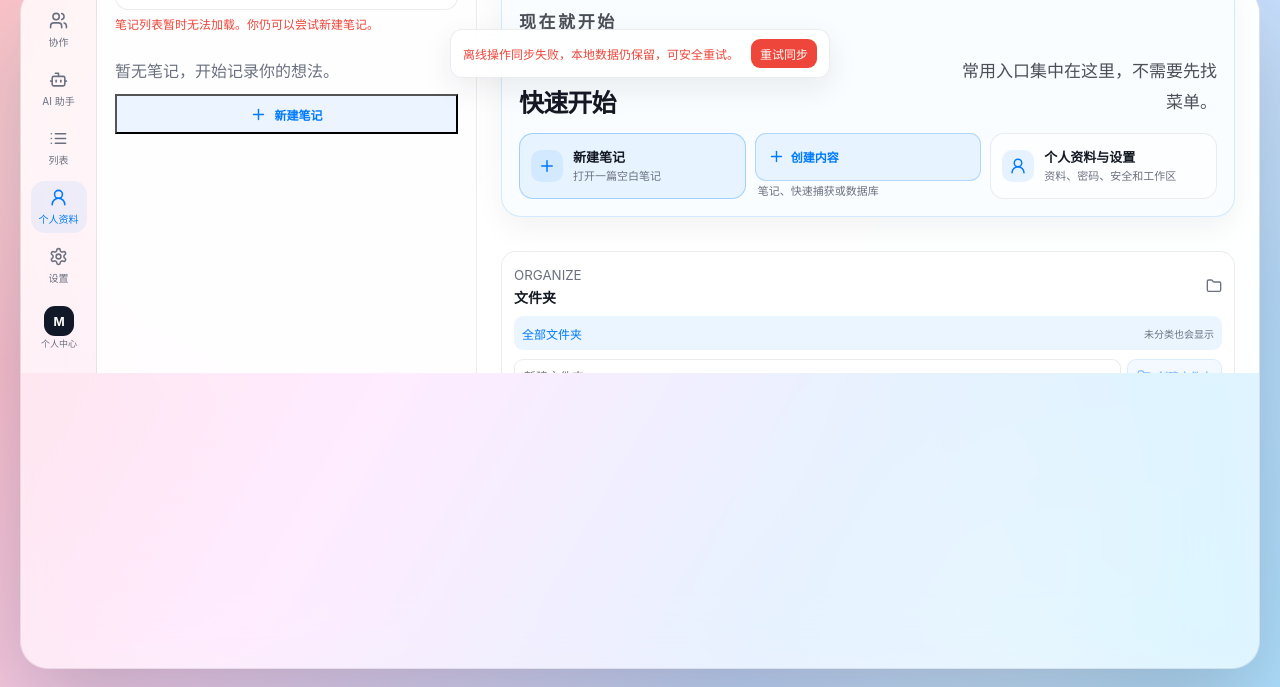
Test: collaboration center › gives the editor control and account-menu action the same unread-count label
(page scrolled)
Click the button named "账户" at (59, 327), box [31, 299, 87, 355]
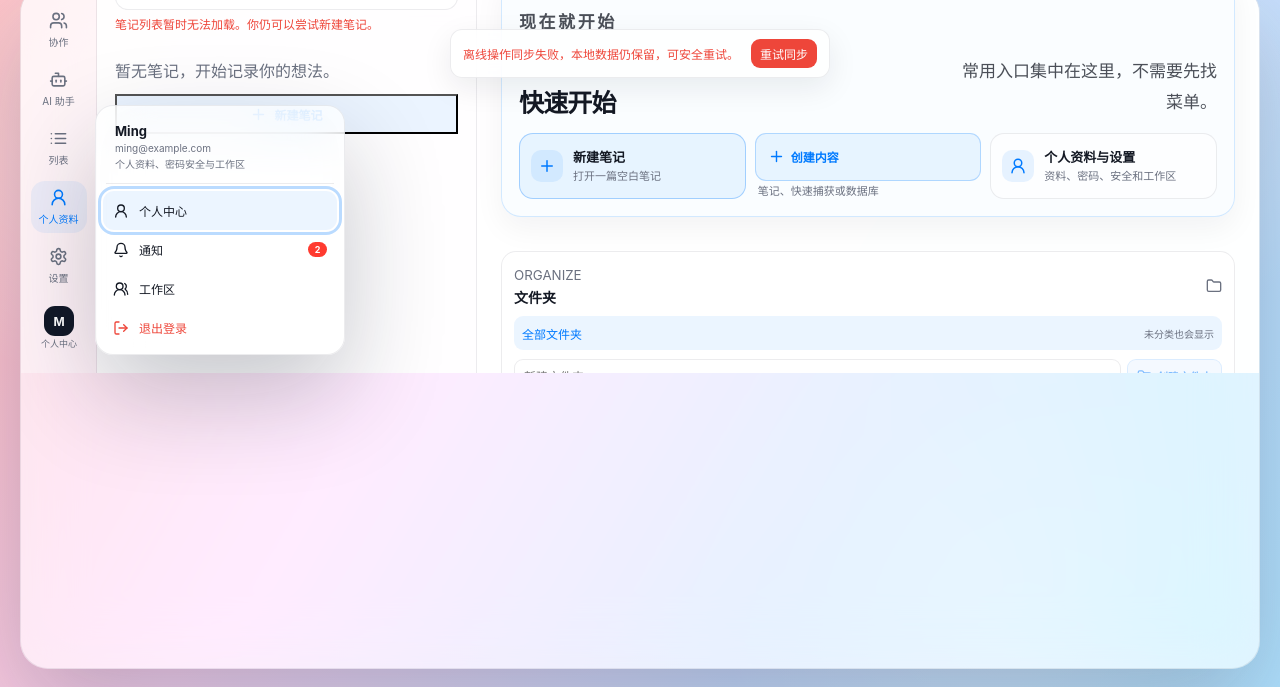
Expected: the menu item named "通知，2 条未读" is shown, [103, 230, 337, 269]
